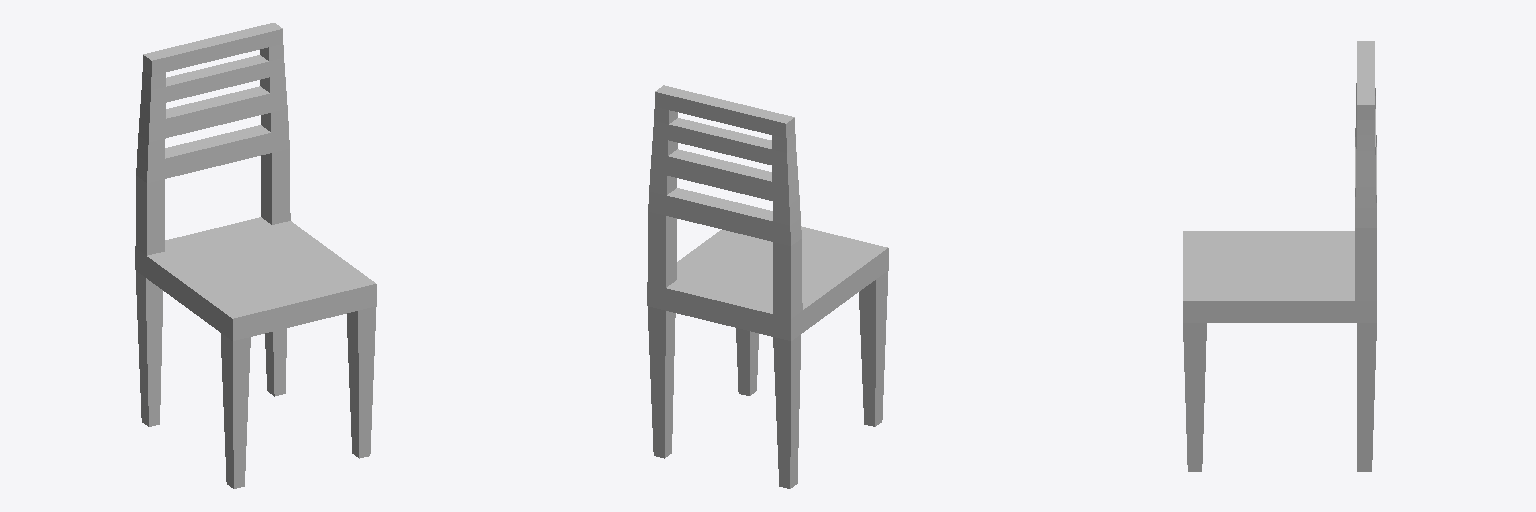
The model's file is Chair.obj.
3 views of the same model, side by side, from view 1: azimuth 30°, elevation 25°; view 2: azimuth 150°, elevation 25°; view 3: azimuth 270°, elevation 25° (orthographic).
Parts seen in each view (by area): view 1: Cube; view 2: Cube; view 3: Cube.
Part boxes in pixels (x1,y1,x2,y2): Cube: (135, 23, 376, 488); Cube: (647, 85, 888, 488); Cube: (1183, 41, 1376, 471).
Bounding box in the file's own units: 2 × 4.86 × 2.34.